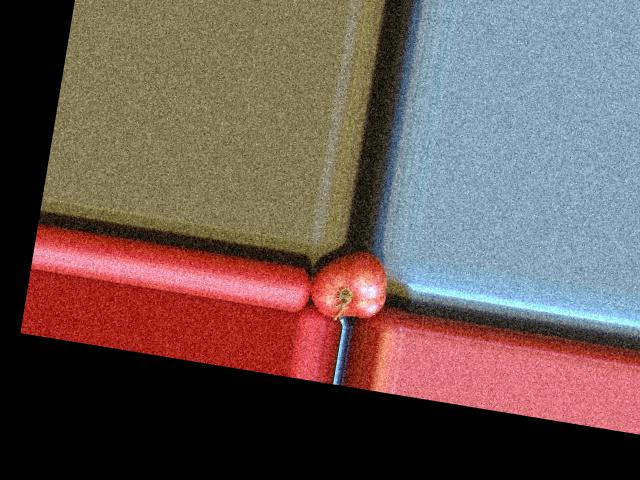tomato: (307, 244, 392, 324)
